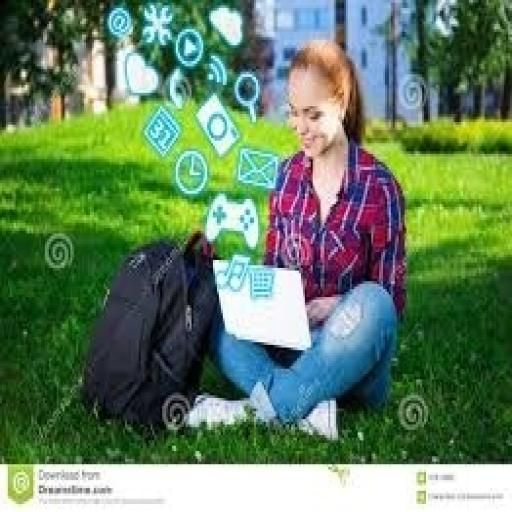using_laptop: (209, 252, 313, 353)
